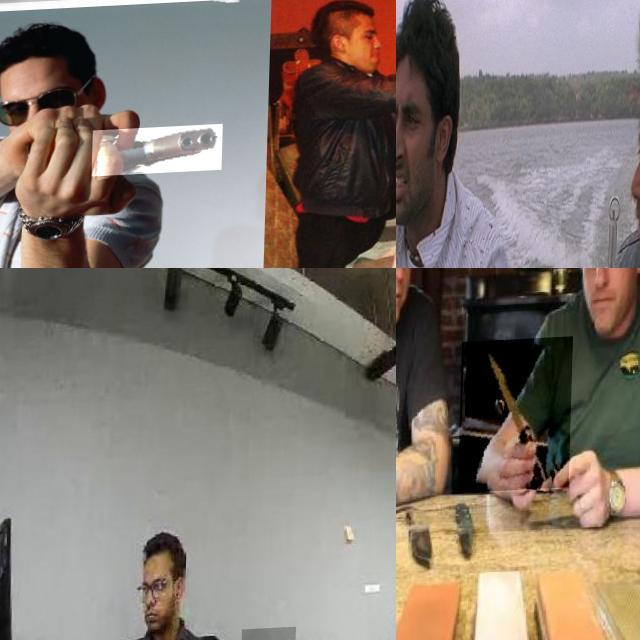-: (460, 341, 574, 496), (243, 630, 298, 640)
gun-knife-thesis - v11 Yolov5 augmented: (0, 0, 284, 155), (94, 126, 226, 178), (292, 0, 333, 21)
